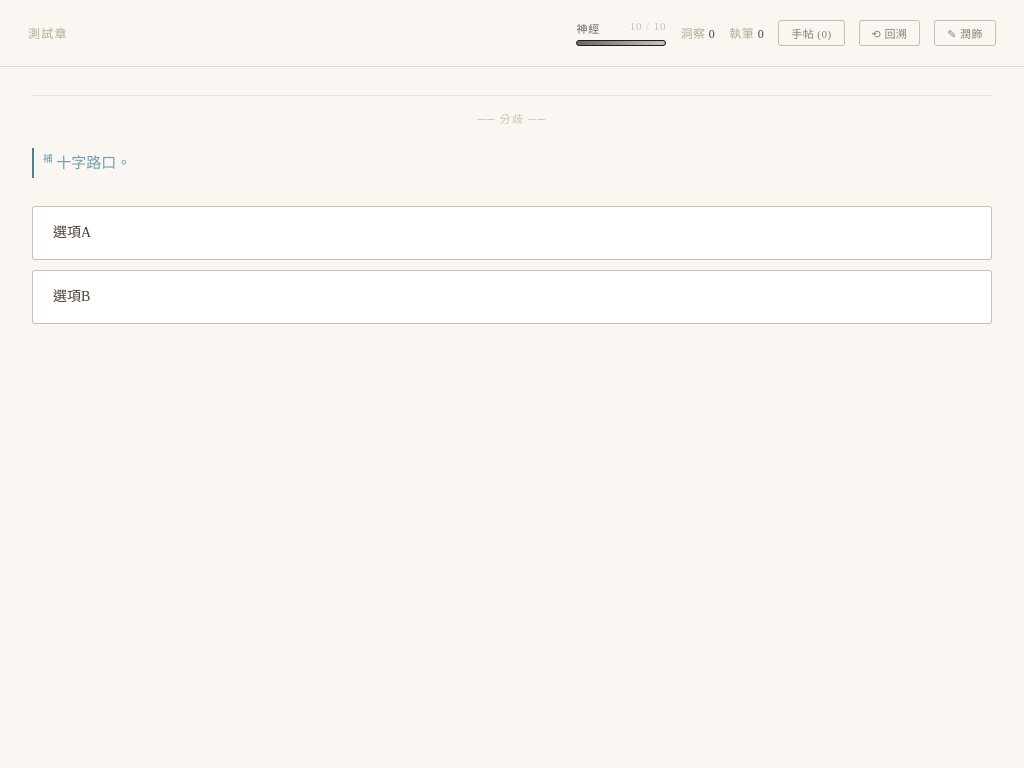
HagurumaEngine — 選項回溯 › 尚未做出任何選擇時，回溯面板顯示「本章尚無可回溯的選擇點」
Expected: the button "選項A" is shown, top-left (32, 206), bottom-right (992, 260)
Click the button "⟲ 回溯" at (889, 33), box top-left (858, 20), bottom-right (920, 46)
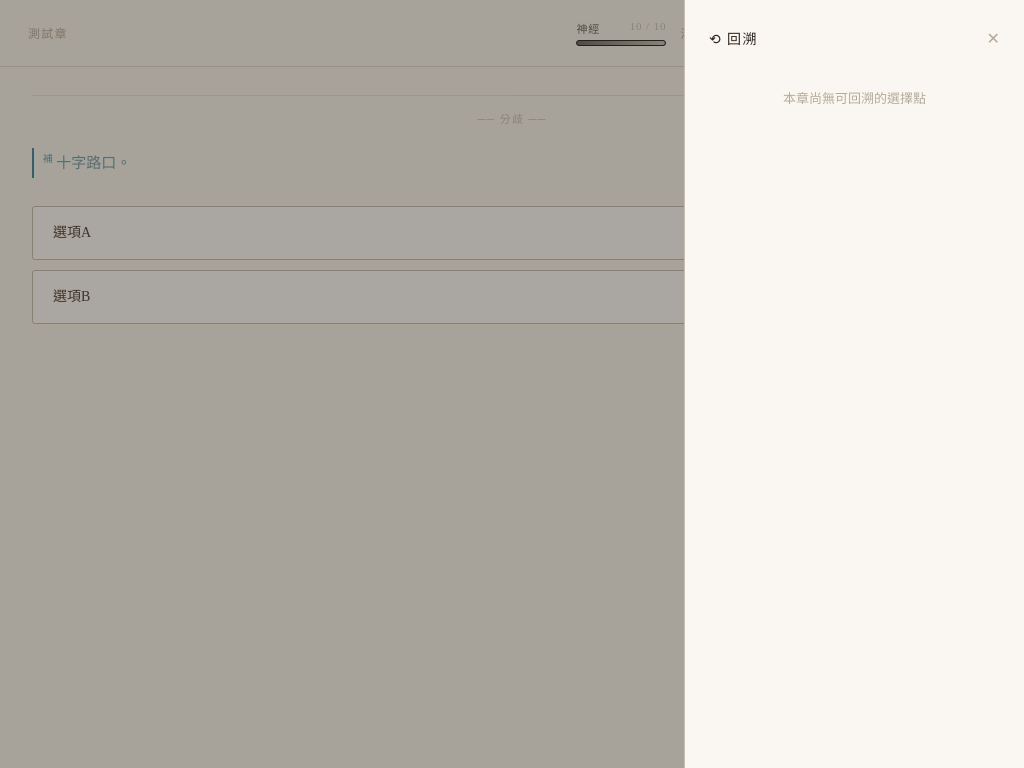
Now the text "本章尚無可回溯的選擇點" is shown, box top-left (783, 91), bottom-right (926, 106)
